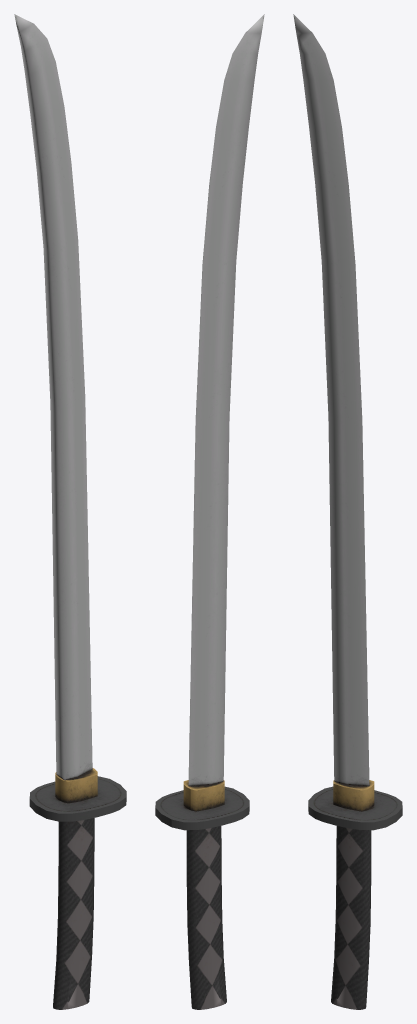
The model's file is Katana.fbx.
The picture shows the model from 3 angles, left to right: view 1: azimuth 30°, elevation 25°; view 2: azimuth 210°, elevation 25°; view 3: azimuth 330°, elevation 25°; orthographic projection. The views are drawn at different scales.
Parts seen in each view (by area): view 1: SM_WEP_Katana.mo; view 2: SM_WEP_Katana.mo; view 3: SM_WEP_Katana.mo.
Boxes of the visible parts, bbox=[...] form: SM_WEP_Katana.mo: bbox=[14, 14, 126, 1009]; SM_WEP_Katana.mo: bbox=[155, 14, 264, 1009]; SM_WEP_Katana.mo: bbox=[293, 14, 402, 1009].
Size of the model in its own units: 16.49 by 149 by 10.51.
1 material, 1 textured.
